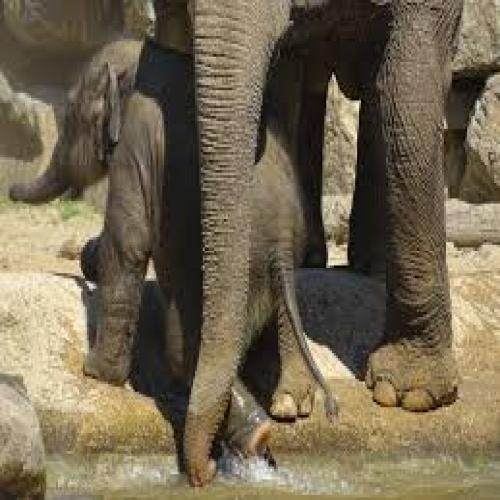asian_elephant-endangered: (153, 0, 461, 483), (7, 37, 338, 457)
